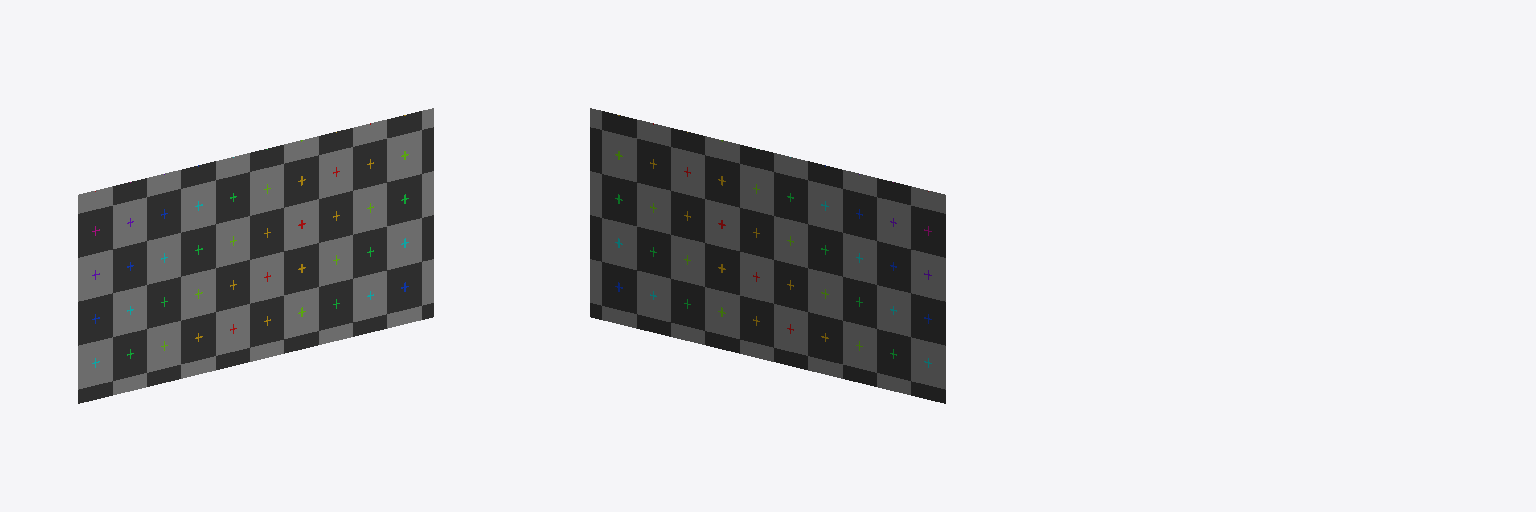
The picture shows the model from 3 angles: view 1: azimuth 30°, elevation 25°; view 2: azimuth 150°, elevation 25°; view 3: azimuth 270°, elevation 25°; orthographic projection.
Parts seen in each view (by area): view 1: Plane.004_Plane.005; view 2: Plane.004_Plane.005; view 3: none.
Boxes of the visible parts, x1,y1,x2,y2 form: Plane.004_Plane.005: [78, 108, 433, 403]; Plane.004_Plane.005: [590, 108, 945, 403].
Size of the model in its own units: 3.2 by 1.8 by 0.
1 materials, 1 textured.